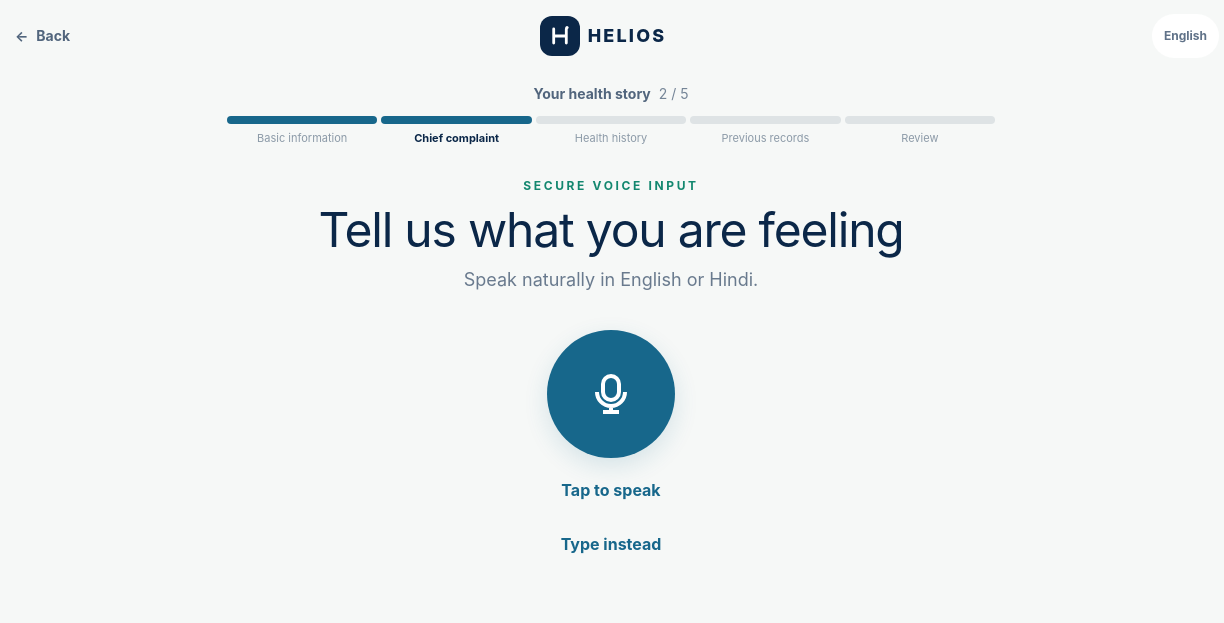
Test: patient experience › keeps text entry available when voice cannot be used
Click the button "Type instead": (611, 544) [545,522,677,566]
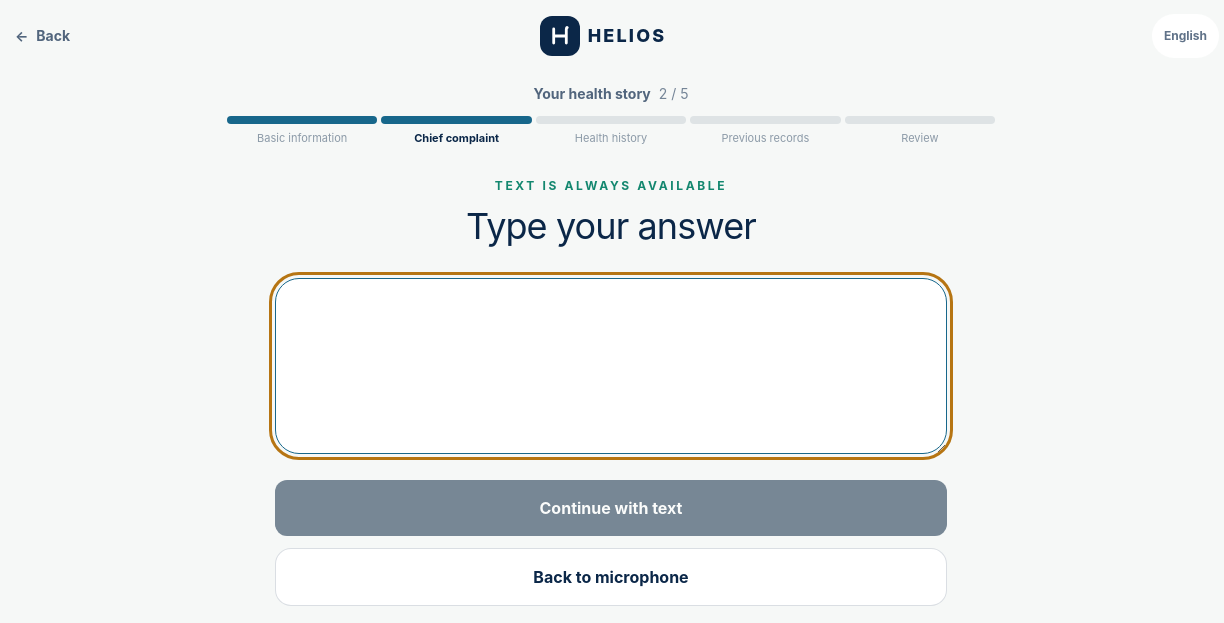
Check: the heading "Type your answer" is shown, box [466,204,756,248]
